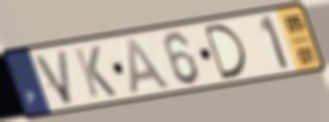1: (259, 14, 293, 71)
6: (162, 28, 202, 88)
A: (124, 37, 175, 97)
D: (201, 21, 249, 82)
K: (71, 44, 119, 100)
V: (30, 46, 76, 107)
